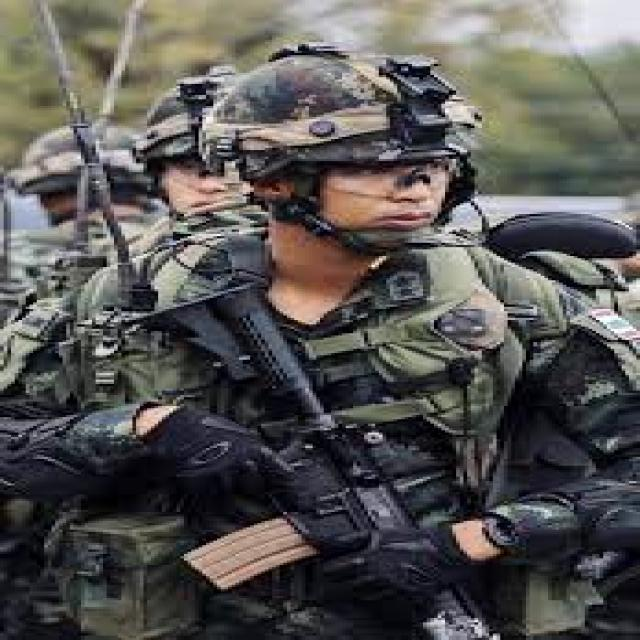m16: (21, 181, 628, 631)
